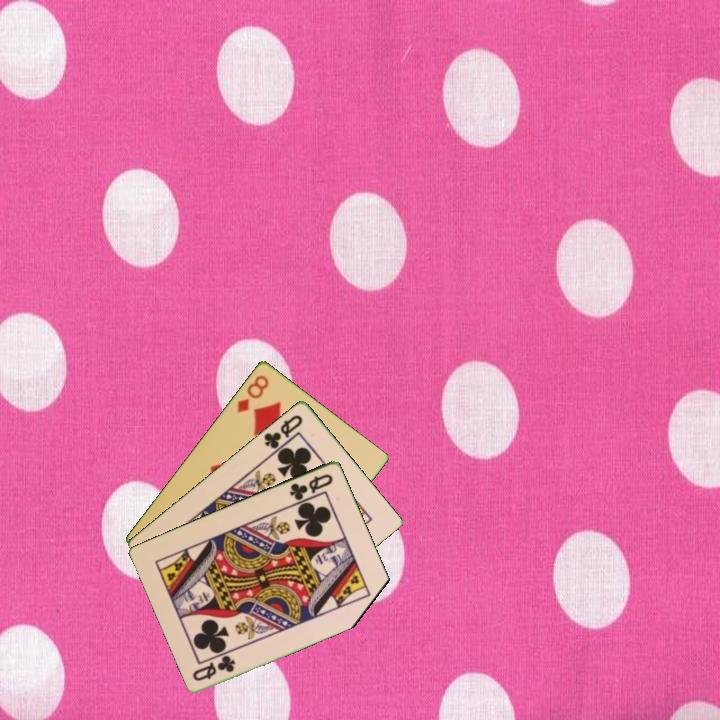8d: (233, 371, 272, 415)
Qc: (260, 411, 306, 456), (286, 470, 336, 503), (189, 652, 239, 684)
